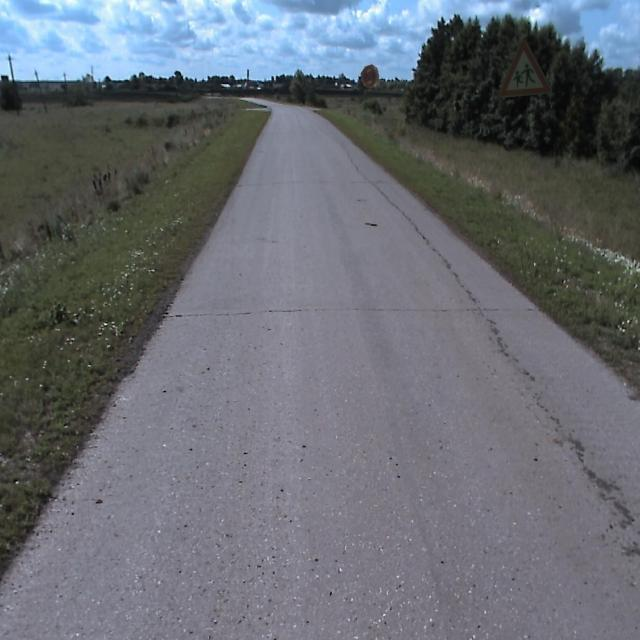road: (0, 105, 639, 639)
